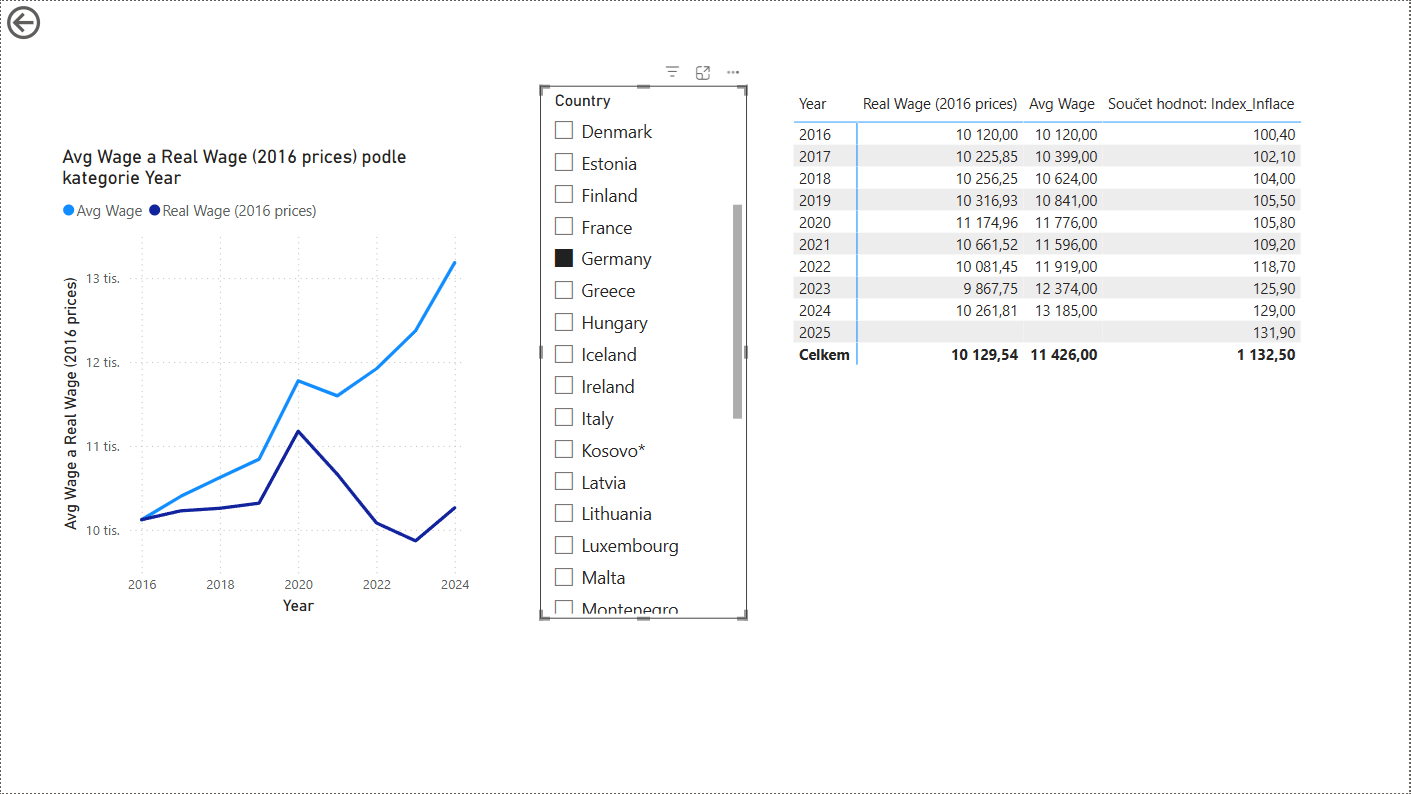

The dashboard page shown, as its layout file describes it:
{"tool":"powerbi","page":{"name":"Stránka 1","canvas":[1280,720],"ordinal":0},"visuals":[{"type":"actionButton","box":[0,0,100,40],"z":0},{"type":"lineChart","fields":{"Category":["DimYear.Year"],"Y":["Tabulkové platy.Avg Wage","Tabulkové platy.Real Wage (2016 prices)"]},"box":[50,132,380,430],"z":1000},{"type":"slicer","fields":{"Values":["DimCountry.Country"]},"box":[490,77,188,485],"z":3000},{"type":"pivotTable","fields":{"Values":["Tabulkové platy.Real Wage (2016 prices)","Tabulkové platy.Avg Wage","Sum(Inflace.Index_Inflace)"],"Rows":["DimYear.Year"]},"box":[715,77,521,337],"z":4000}]}

Visuals, with their boxes on the page's 1280x720 design canvas (x1, y1, x2, y2). These are canvas units, not pixel positions in the 1411x794 screenshot, which may show the page scaled, cropped or inside an application window:
actionButton: <box>0,0,100,40</box>
lineChart - DimYear.Year x Tabulkové platy.Avg Wage: <box>50,132,430,562</box>
slicer - DimCountry.Country: <box>490,77,678,562</box>
pivotTable - Tabulkové platy.Real Wage (2016 prices) x Tabulkové platy.Avg Wage: <box>715,77,1236,414</box>
